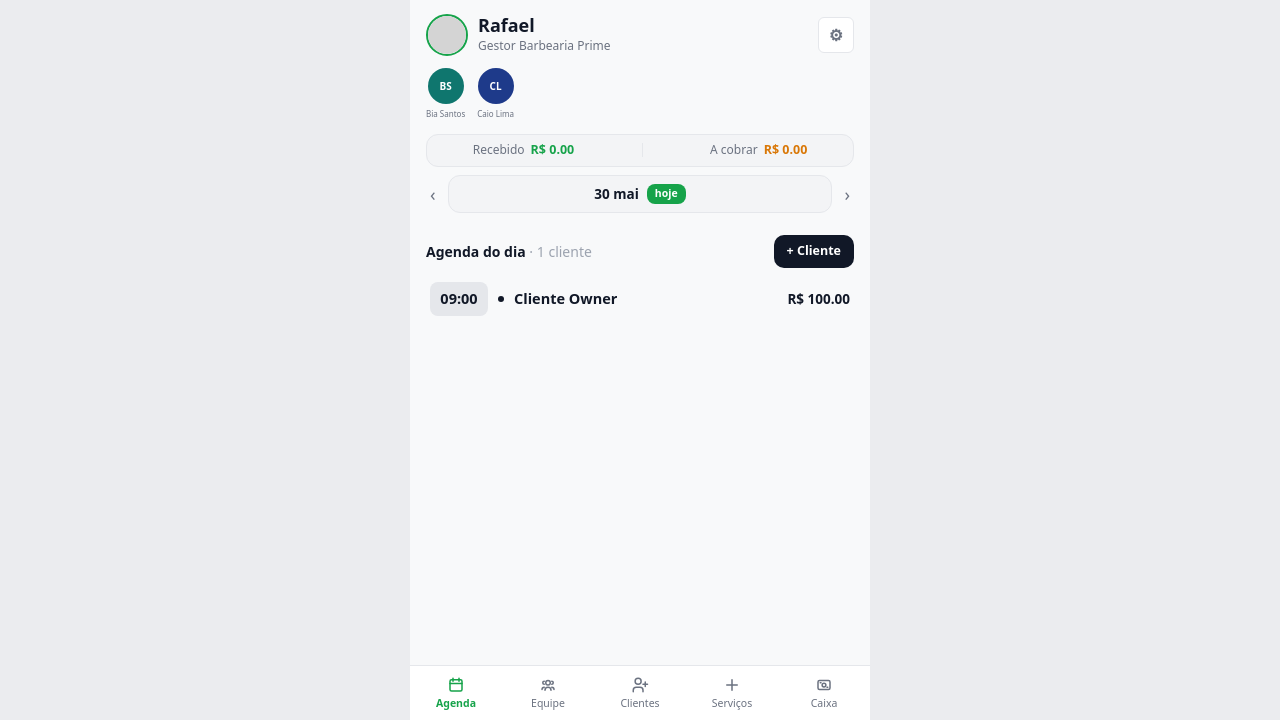
Scenario: AppPage barber avatar row › expands the last payment method when the grid has an odd count
Press the mouse on the button "09:00 Cliente Owner R$ 100.00" at coordinates (459, 299), box [426,276,854,322]
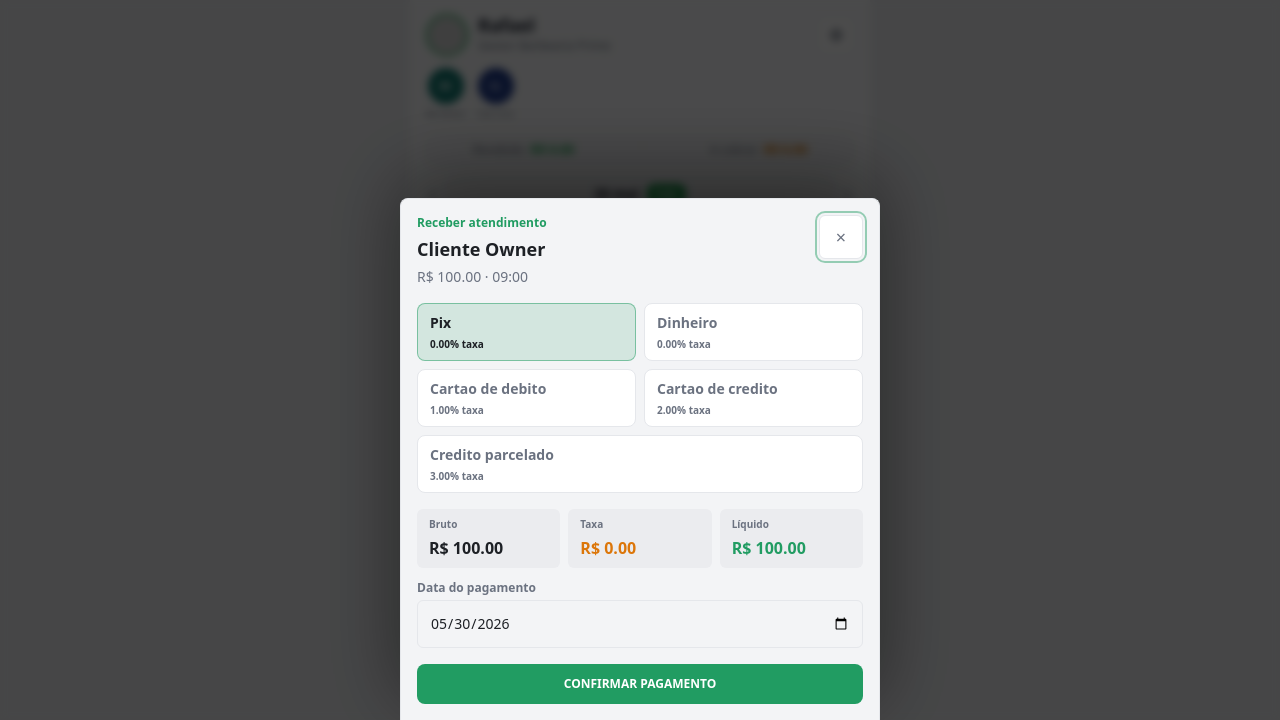
Check: the text "Receber atendimento" is shown, box [417,215,547,231]
